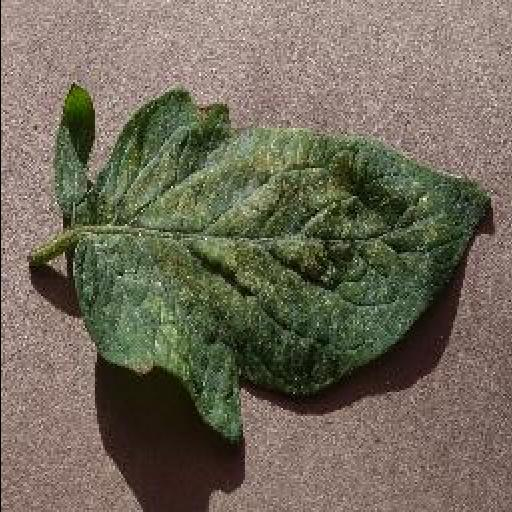disease_tomato: (53, 80, 487, 442)
